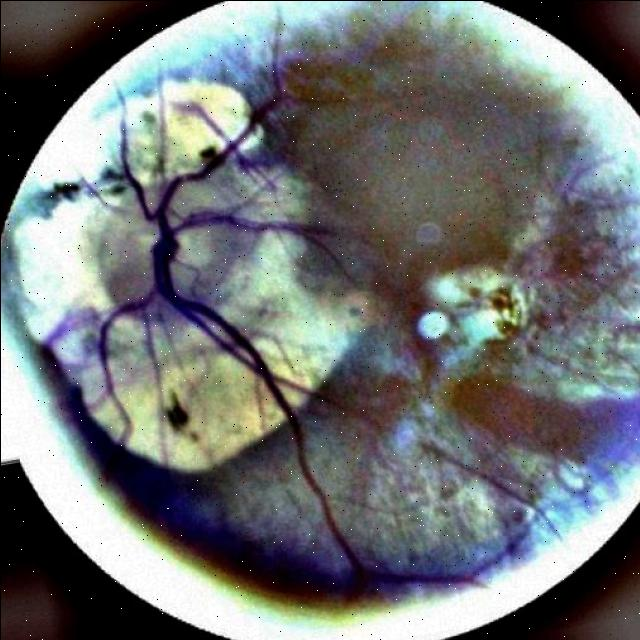Macula: (417, 267, 526, 345)
Nerves: (152, 181, 362, 579)
